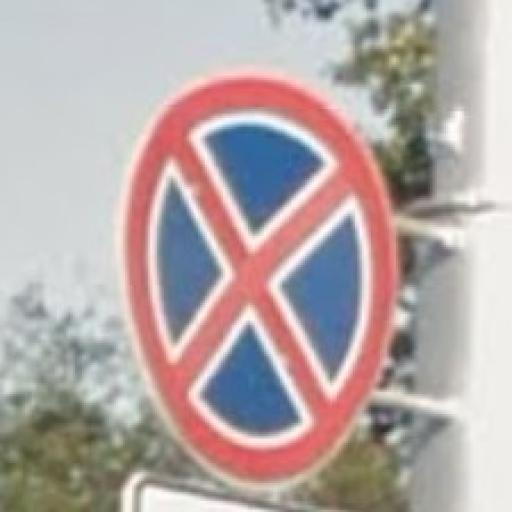traffic_sign: (110, 68, 399, 495)
